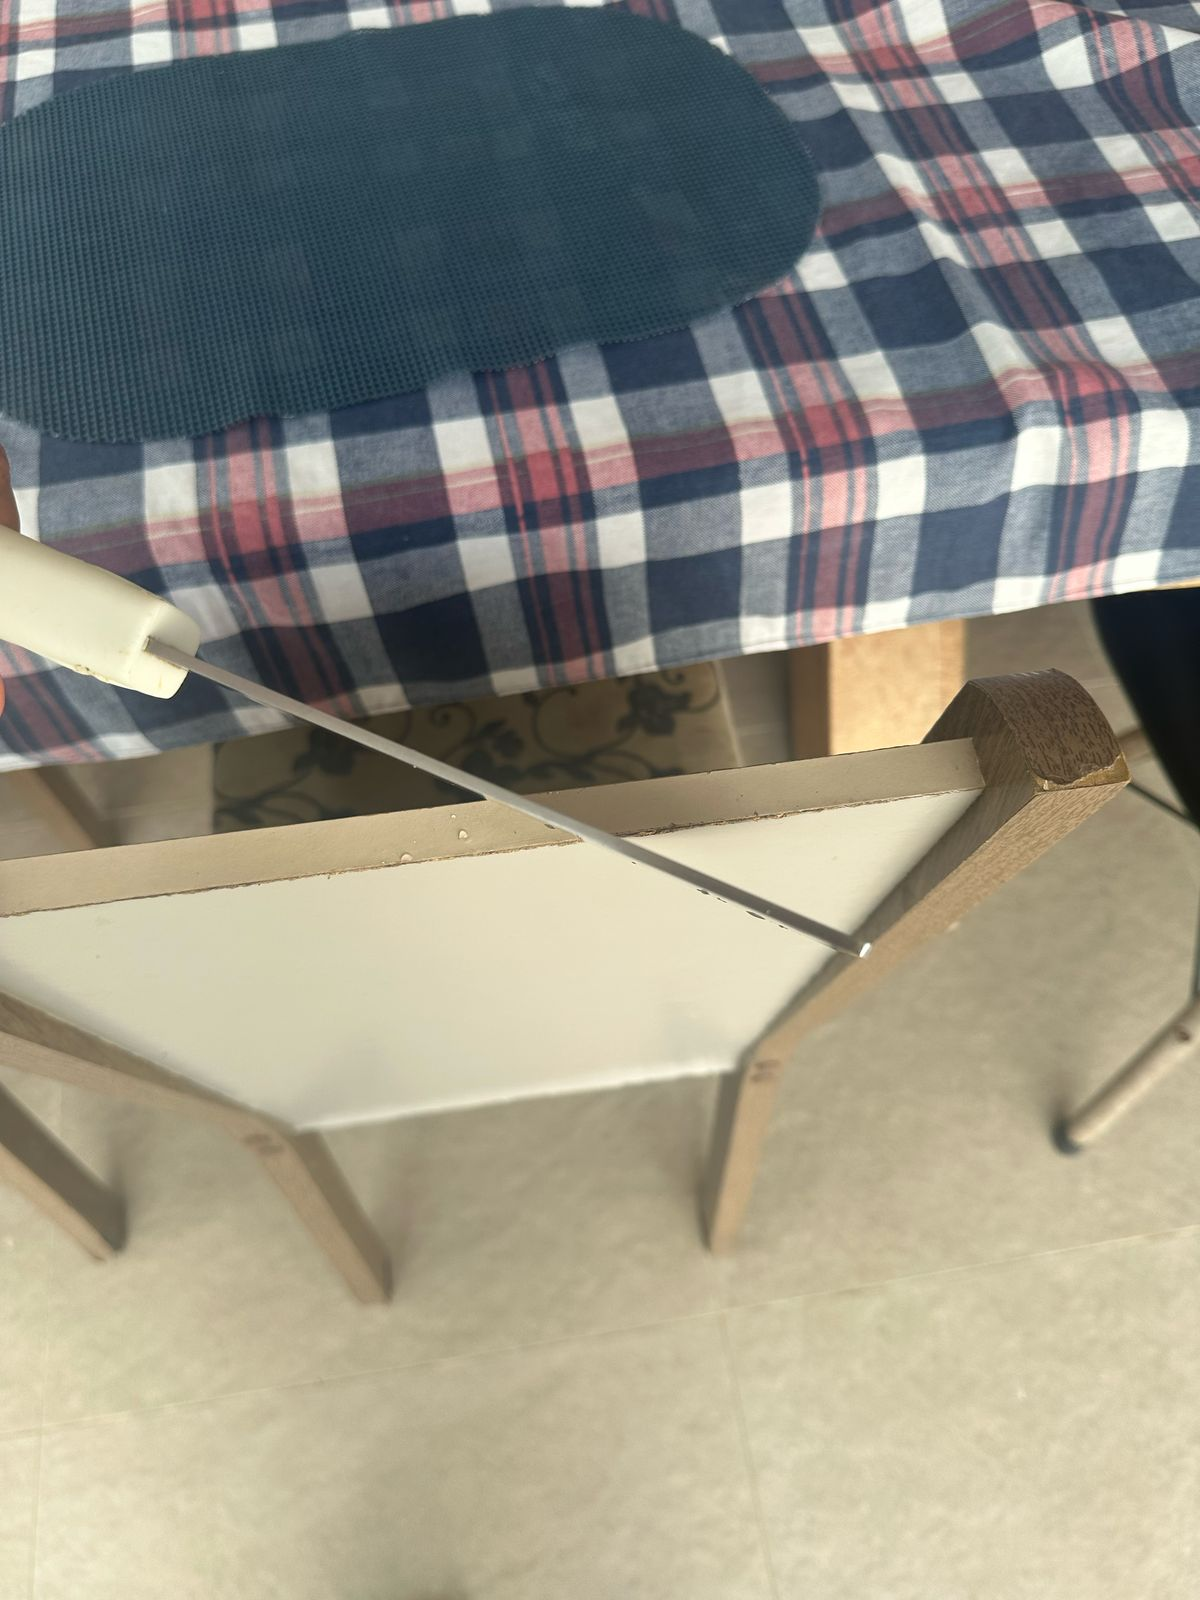faca: (42, 542, 868, 981)
